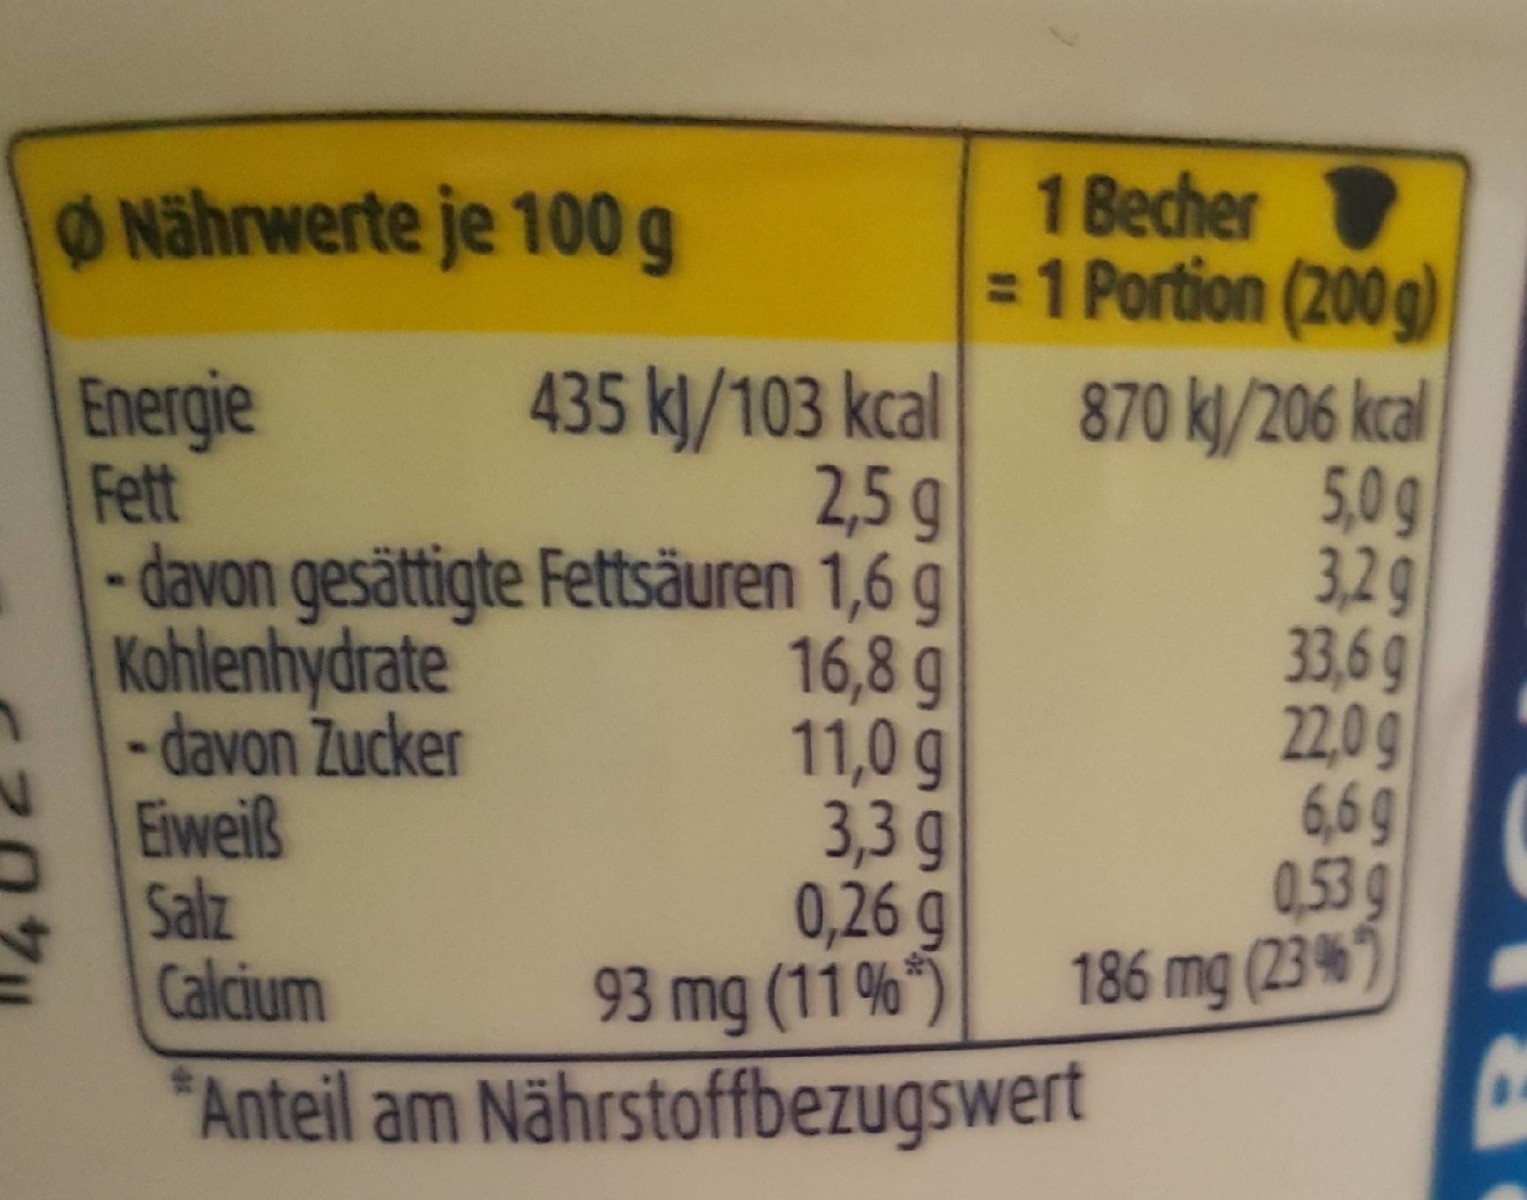column: (56, 118, 947, 1059), (989, 119, 1438, 1052)
table: (10, 115, 1476, 1057)
